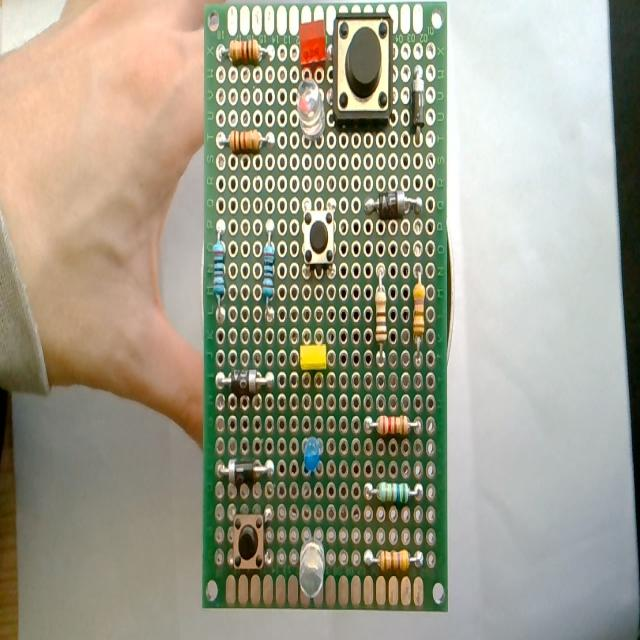diode: (211, 363, 277, 397), (366, 184, 424, 220), (215, 454, 275, 488), (410, 62, 430, 152)
led: (296, 522, 328, 604), (297, 333, 335, 394), (296, 75, 327, 149), (295, 16, 328, 75), (302, 428, 326, 483)
resistor: (359, 406, 426, 444), (210, 215, 232, 330), (361, 540, 426, 578), (214, 34, 276, 72), (359, 475, 425, 510), (260, 212, 280, 326), (372, 258, 390, 370), (411, 256, 427, 371), (215, 126, 277, 152)
switch: (329, 9, 394, 134), (228, 500, 274, 577), (302, 194, 338, 290)
